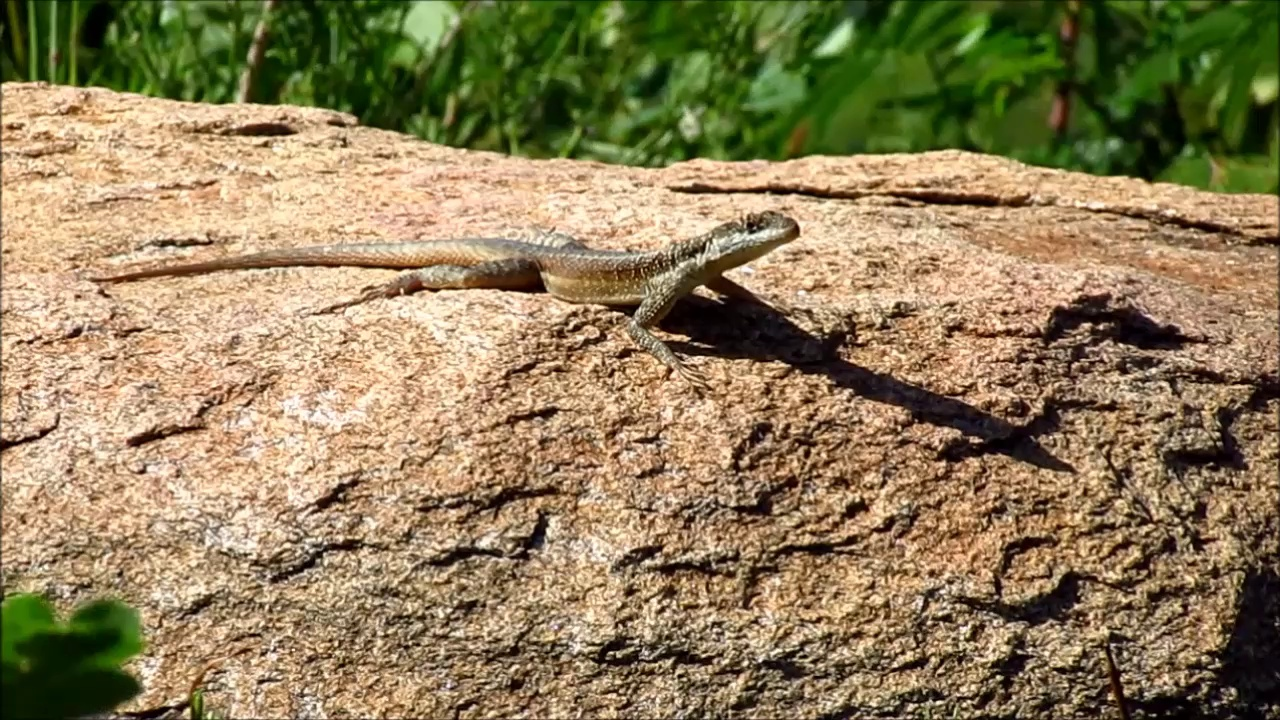body: (84, 226, 710, 397)
head: (707, 209, 800, 262)
